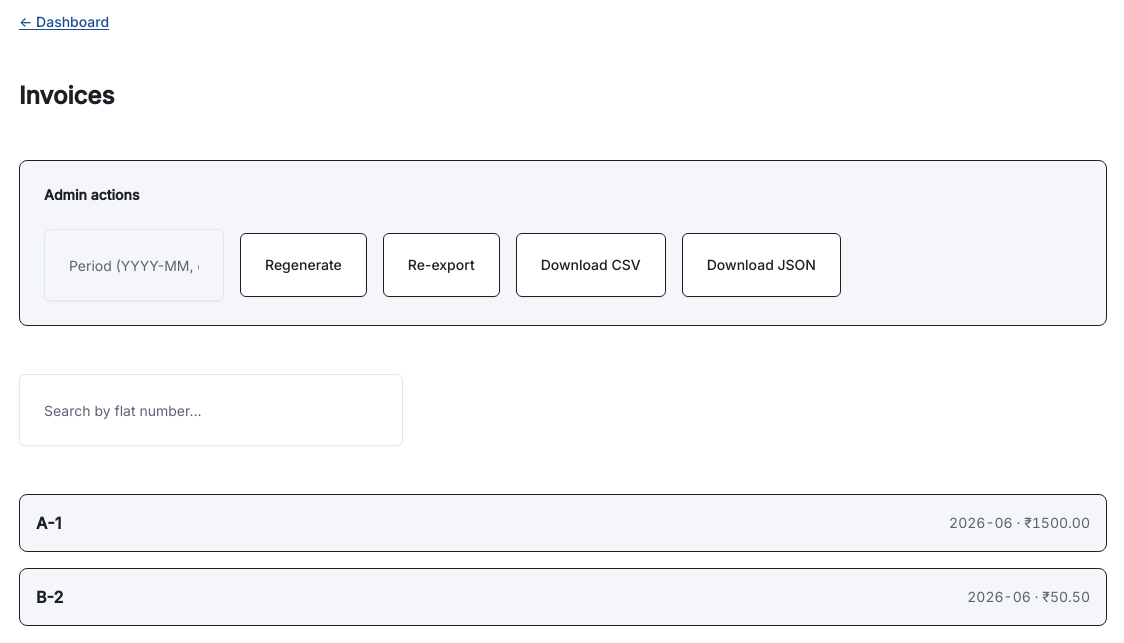
Test: TenantInvoices › search filters by flat_number substring
Expected: the text "A-1" is shown, [36, 511, 61, 535]
Expected: the text "B-2" is shown, [36, 585, 63, 609]
Type "a-1" into the field named "search invoices by flat".
click(211, 410); type("a-1")  # box [19, 374, 403, 446]
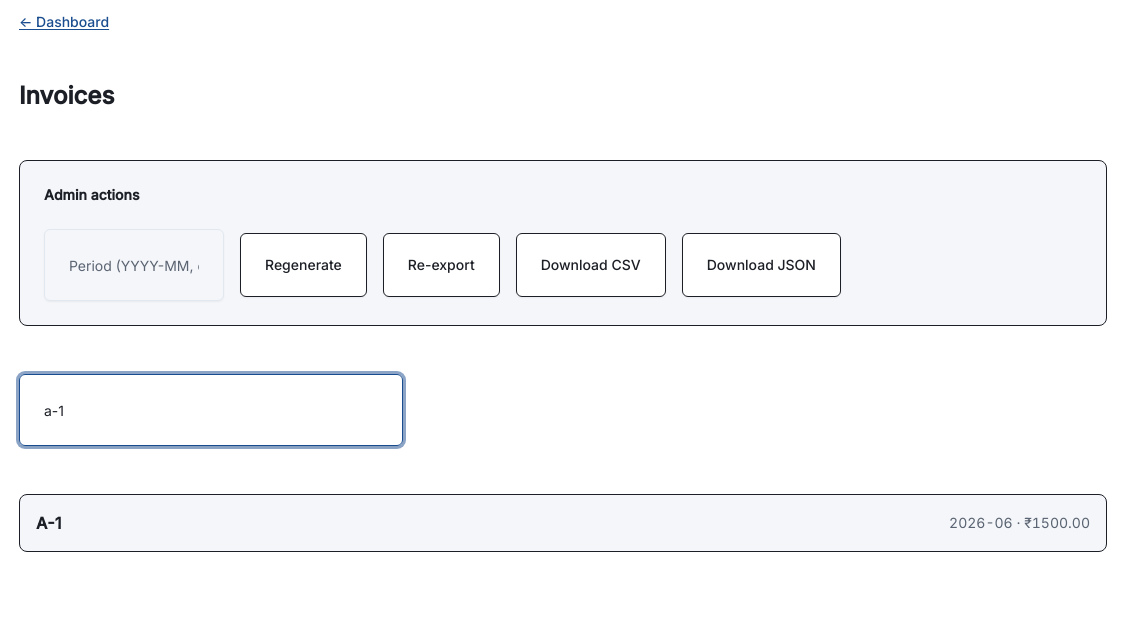
Expected: the text "A-1" is shown, [36, 511, 61, 535]
Expected: the button "B-2" is gone
